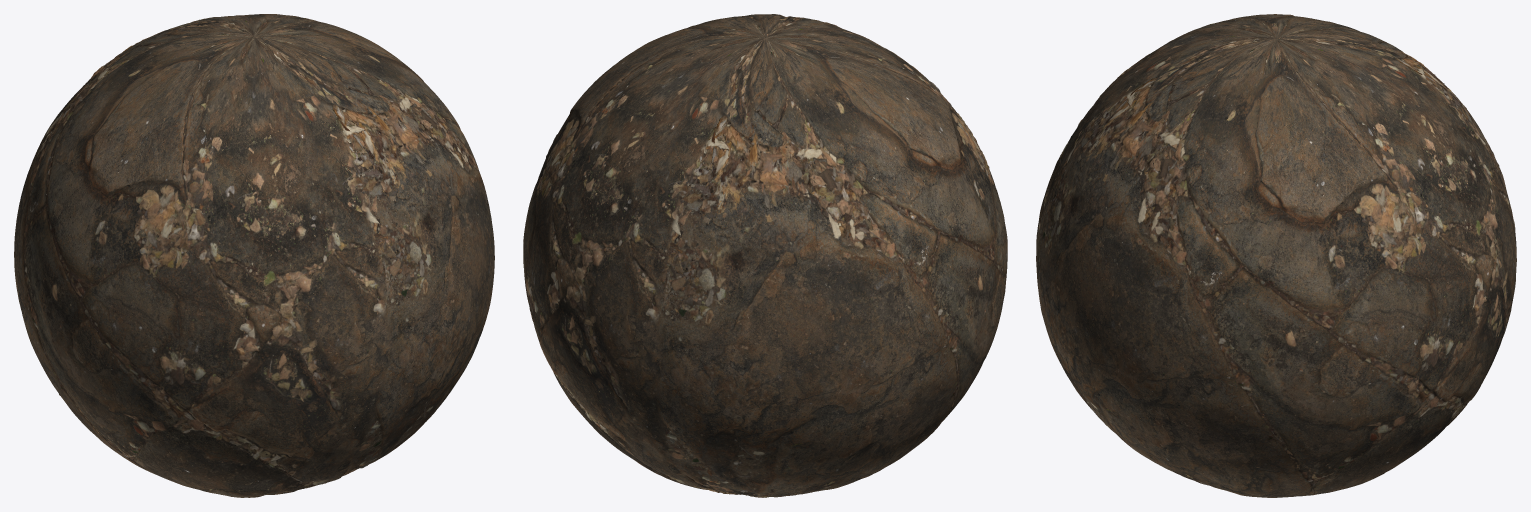
Rendered from rock_face_04_2k.gltf.
3 views of the same model, side by side, from view 1: azimuth 30°, elevation 25°; view 2: azimuth 150°, elevation 25°; view 3: azimuth 270°, elevation 25° (orthographic).
Parts seen in each view (by area): view 1: sphere_gltf; view 2: sphere_gltf; view 3: sphere_gltf.
Boxes of the visible parts, left/top/right/bottom form: sphere_gltf: left=14, top=14, right=494, bottom=497; sphere_gltf: left=523, top=14, right=1007, bottom=497; sphere_gltf: left=1036, top=14, right=1516, bottom=497.
Bounding box in the file's own units: 1.99 × 2 × 2.
Materials: 1 (1 with a texture image).
